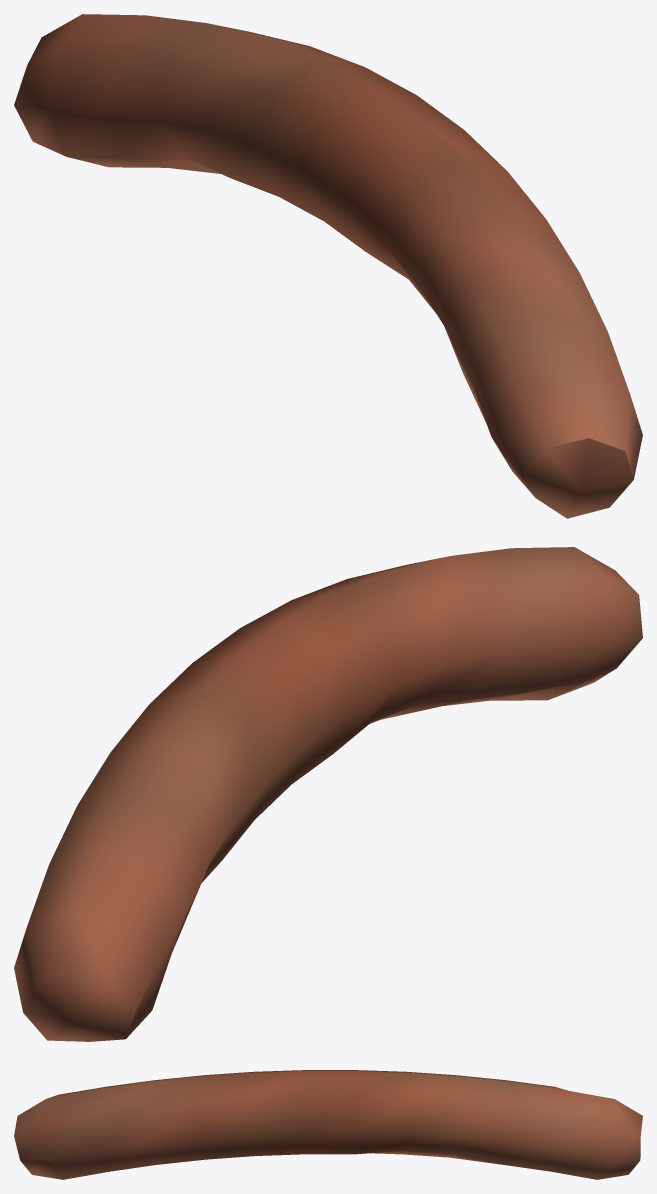
File: microscopic-bacteria-rod-bacterium_v1.glb
3 renders of one model, top to bottom at view 1: azimuth 30°, elevation 25°; view 2: azimuth 150°, elevation 25°; view 3: azimuth 270°, elevation 25°, orthographic. The views are drawn at different scales.
Parts seen in each view (by area): view 1: Rod Bacterium_v1; view 2: Rod Bacterium_v1; view 3: Rod Bacterium_v1.
Part boxes in pixels (bbox=[...]): Rod Bacterium_v1: bbox=[14, 14, 642, 518]; Rod Bacterium_v1: bbox=[14, 547, 642, 1041]; Rod Bacterium_v1: bbox=[14, 1070, 642, 1179].
Bounding box in the file's own units: 0.0611 × 0.0637 × 0.3.
